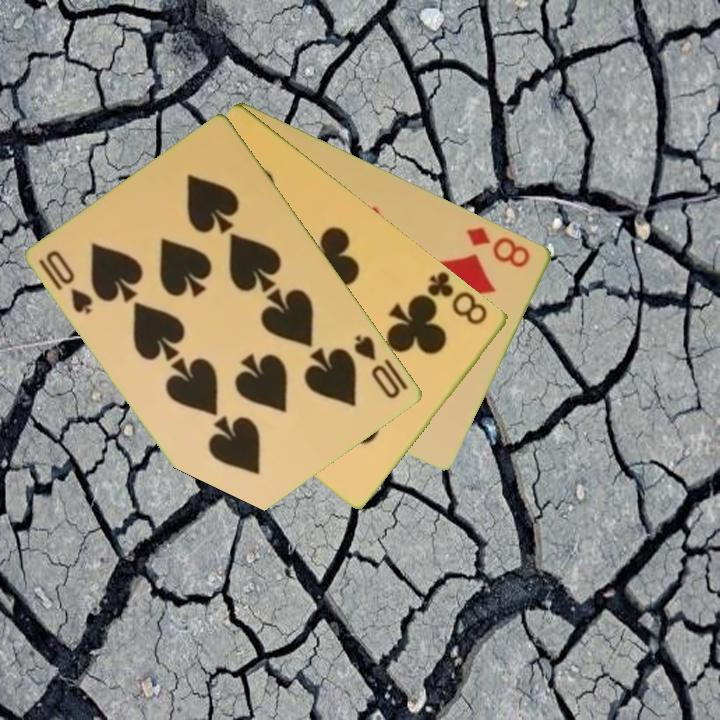10s: (35, 246, 97, 318), (351, 331, 404, 402)
8c: (419, 267, 491, 328)
8d: (463, 223, 534, 271)
